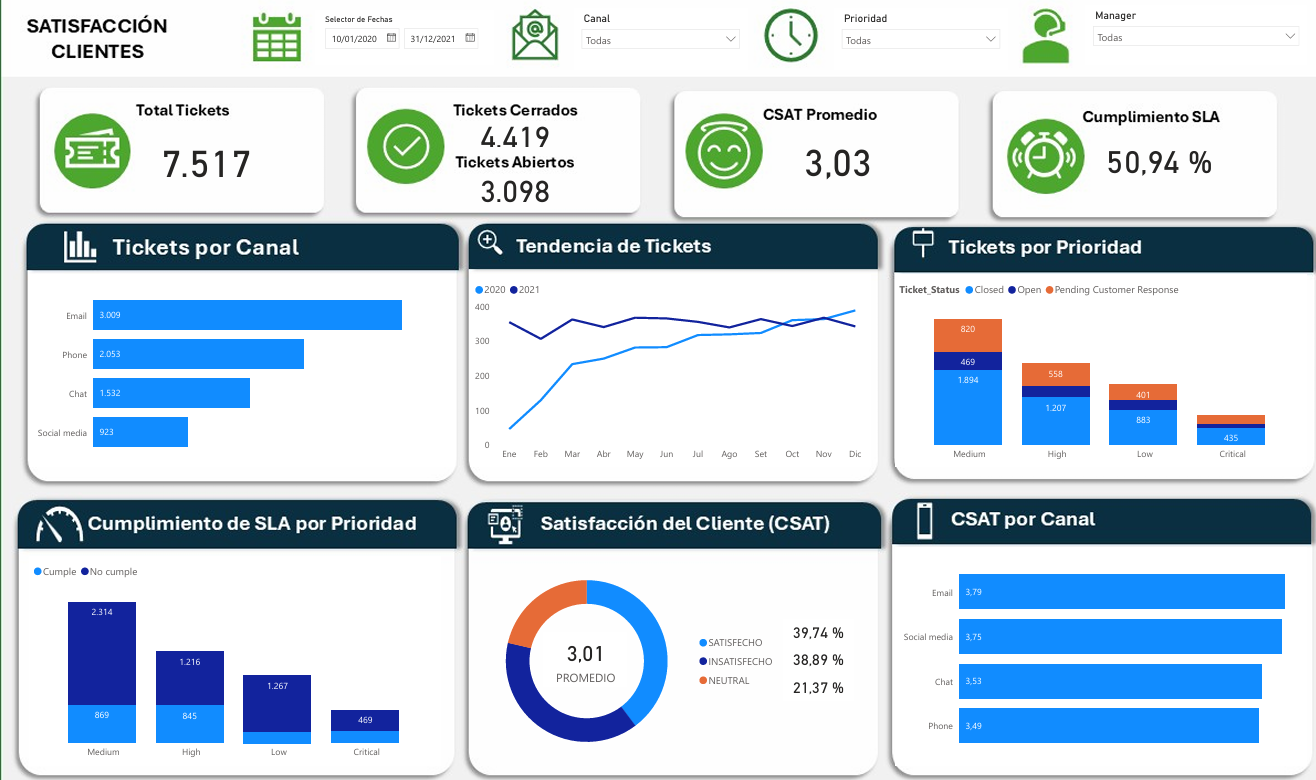

Layout of this report page (visuals, bound fields, positions):
{"tool":"powerbi","page":{"name":"RESUMEN","canvas":[1920,1080],"ordinal":0},"visuals":[{"type":"card","fields":{"Values":["Medidas.TICKETS_TOTAL"]},"box":[767.8,160.5,119.4,45.3],"z":0},{"type":"lineChart","fields":{"Y":["Medidas.TICKETS_TOTAL"],"Series":["satisfaction_table.AÑO_CREACION_TICKET"],"Category":["satisfaction_table.MES_CREACION"]},"box":[767.8,374.6,543.4,261.4],"z":1000},{"type":"clusteredBarChart","fields":{"Category":["satisfaction_table.Ticket_Channel"],"Y":["Medidas.TICKETS_TOTAL"]},"box":[168.8,374.6,578.4,261.4],"z":2000},{"type":"columnChart","fields":{"Category":["satisfaction_table.Ticket_Priority"],"Y":["Medidas.TICKETS_TOTAL"],"Series":["satisfaction_table.Ticket_Status"]},"box":[1344.1,374.6,557.8,261.4],"z":3000},{"type":"columnChart","fields":{"Category":["satisfaction_table.Ticket_Priority"],"Series":["satisfaction_table.CUMPLIMIENTO_SLA_PRIORITY"],"Y":["Medidas.TICKETS_TOTAL"]},"box":[168.8,757.5,557.8,284],"z":4000},{"type":"donutChart","fields":{"Category":["satisfaction_table.COMENTARIO_SATISFACTION"],"Y":["Medidas.TICKETS_TOTAL"]},"box":[767.8,757.5,424,284],"z":5000},{"type":"card","fields":{"Values":["Medidas.% Satisfecho"]},"box":[1191.8,841.9,94.7,37],"z":6000},{"type":"card","fields":{"Values":["Medidas.% Insatisfecho"]},"box":[1191.8,878.9,94.7,37],"z":7000},{"type":"card","fields":{"Values":["Medidas.% Neutral"]},"box":[1191.8,916,94.7,37],"z":8000},{"type":"card","fields":{"Values":["Medidas.PROM_SATISFACION"]},"box":[866.6,860.4,113.2,74.1],"z":9000},{"type":"clusteredBarChart","fields":{"Category":["satisfaction_table.Ticket_Channel"],"Y":["Medidas.PROMEDIO_CIERRE"]},"box":[1344.1,745.1,557.8,296.4],"z":10000},{"type":"card","fields":{"Values":["Medidas.TICKETS_TOTAL"]},"box":[325.2,179.1,166.7,78.2],"z":11000},{"type":"card","fields":{"Values":["Medidas.% Cumple SLA"]},"box":[1623.3,175.5,157.4,81.4],"z":12000},{"type":"slicer","fields":{"Values":["satisfaction_table.Manager_Name"]},"box":[1601.5,9,300.4,81.4],"z":13000},{"type":"slicer","fields":{"Values":["satisfaction_table.Ticket_Created_Date"]},"box":[557.4,16.3,242.5,74.2],"z":14000},{"type":"slicer","fields":{"Values":["satisfaction_table.Ticket_Channel"]},"box":[908.4,12.7,235.3,83.2],"z":15000},{"type":"slicer","fields":{"Values":["satisfaction_table.Ticket_Priority"]},"box":[1261.3,12.7,235.3,83.2],"z":16000},{"type":"card","fields":{"Values":["Medidas.PROM_SATISFACION"]},"box":[1187.7,175,156.4,82.3],"z":18000},{"type":"card","fields":{"Values":["Medidas.TICKETS_TOTAL"]},"box":[767.8,228.5,119.4,57.6],"z":19000}]}

Visuals, with their boxes on the page's 1920x1080 design canvas (x1, y1, x2, y2). These are canvas units, not pixel positions in the 1316x780 screenshot, which may show the page scaled, cropped or inside an application window:
card - Medidas.TICKETS_TOTAL: locate(768, 160, 887, 206)
lineChart - Medidas.TICKETS_TOTAL x satisfaction_table.AÑO_CREACION_TICKET: locate(768, 375, 1311, 636)
clusteredBarChart - satisfaction_table.Ticket_Channel x Medidas.TICKETS_TOTAL: locate(169, 375, 747, 636)
columnChart - satisfaction_table.Ticket_Priority x Medidas.TICKETS_TOTAL: locate(1344, 375, 1902, 636)
columnChart - satisfaction_table.Ticket_Priority x satisfaction_table.CUMPLIMIENTO_SLA_PRIORITY: locate(169, 758, 727, 1042)
donutChart - satisfaction_table.COMENTARIO_SATISFACTION x Medidas.TICKETS_TOTAL: locate(768, 758, 1192, 1042)
card - Medidas.% Satisfecho: locate(1192, 842, 1286, 879)
card - Medidas.% Insatisfecho: locate(1192, 879, 1286, 916)
card - Medidas.% Neutral: locate(1192, 916, 1286, 953)
card - Medidas.PROM_SATISFACION: locate(867, 860, 980, 934)
clusteredBarChart - satisfaction_table.Ticket_Channel x Medidas.PROMEDIO_CIERRE: locate(1344, 745, 1902, 1042)
card - Medidas.TICKETS_TOTAL: locate(325, 179, 492, 257)
card - Medidas.% Cumple SLA: locate(1623, 176, 1781, 257)
slicer - satisfaction_table.Manager_Name: locate(1602, 9, 1902, 90)
slicer - satisfaction_table.Ticket_Created_Date: locate(557, 16, 800, 90)
slicer - satisfaction_table.Ticket_Channel: locate(908, 13, 1144, 96)
slicer - satisfaction_table.Ticket_Priority: locate(1261, 13, 1497, 96)
card - Medidas.PROM_SATISFACION: locate(1188, 175, 1344, 257)
card - Medidas.TICKETS_TOTAL: locate(768, 228, 887, 286)
